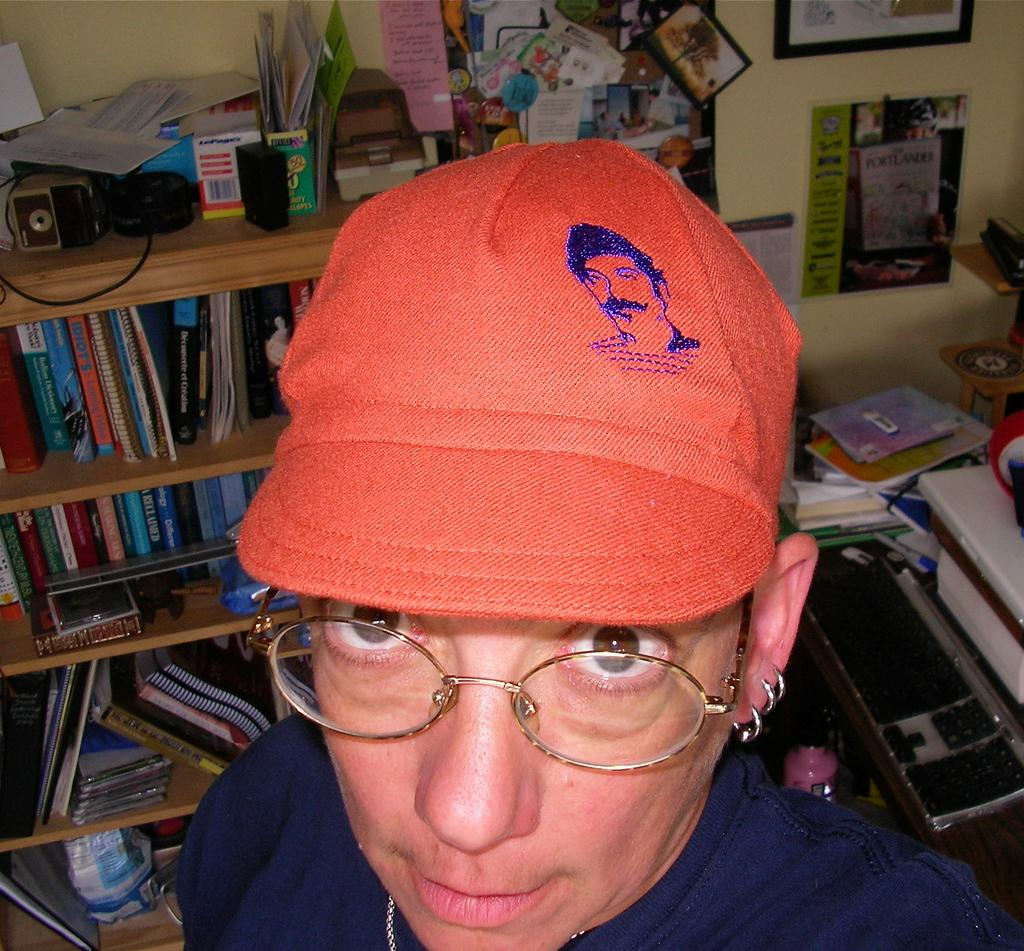Hat: (236, 134, 812, 624)
